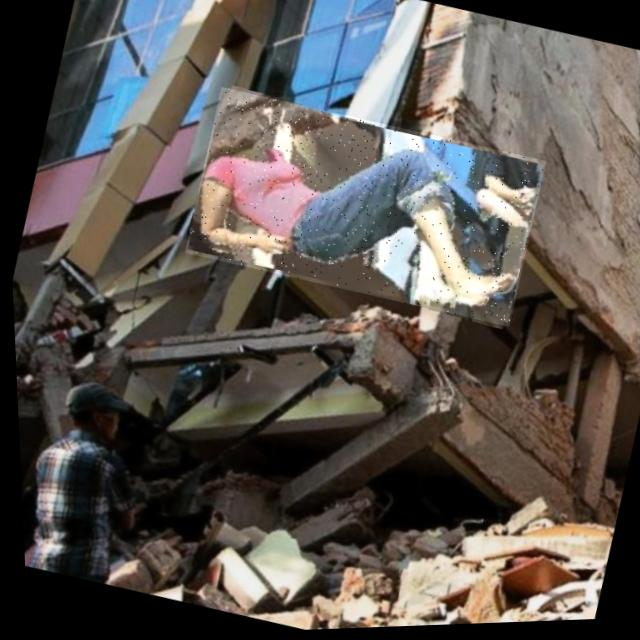Person in Rubble: (176, 79, 550, 339)
